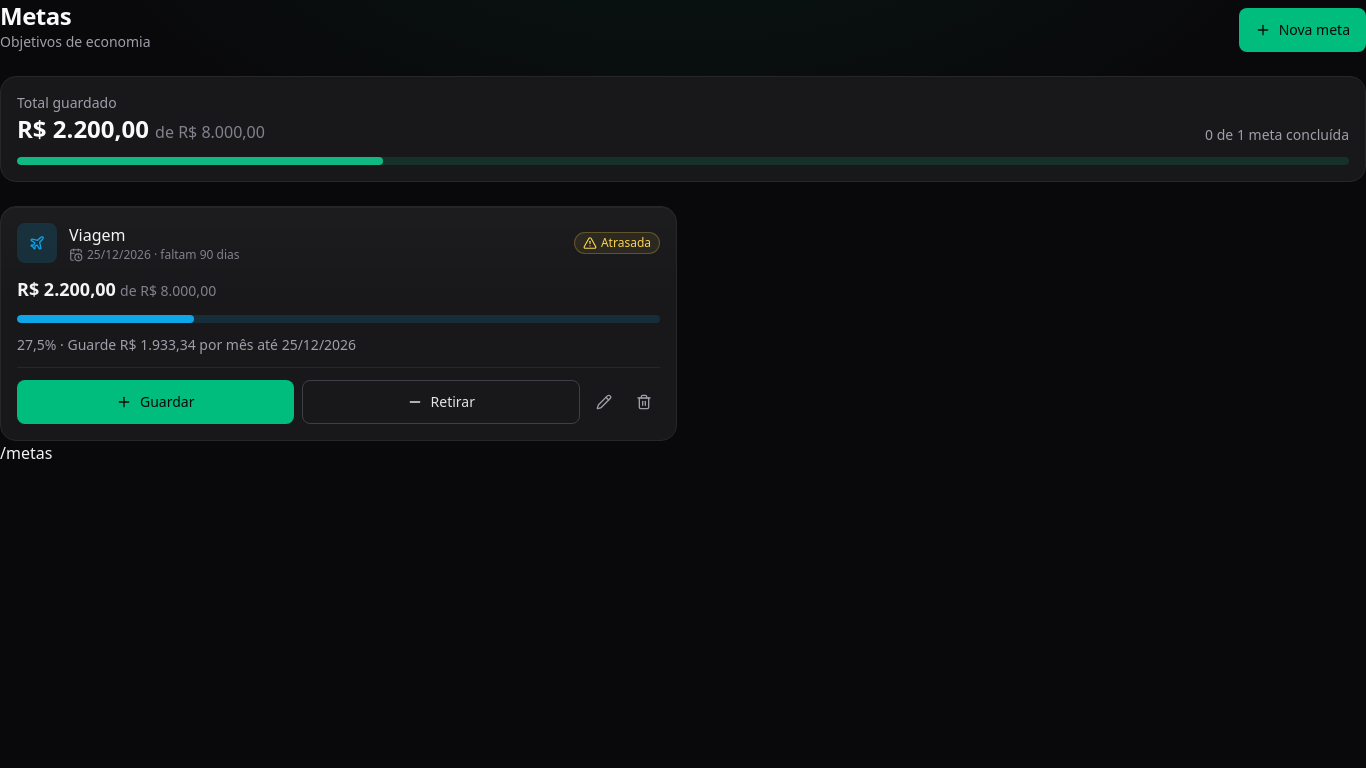
Test: GoalsPage › deposits and celebrates when the goal is reached
Click the button "Guardar" at (155, 402), box [17,380,294,424]
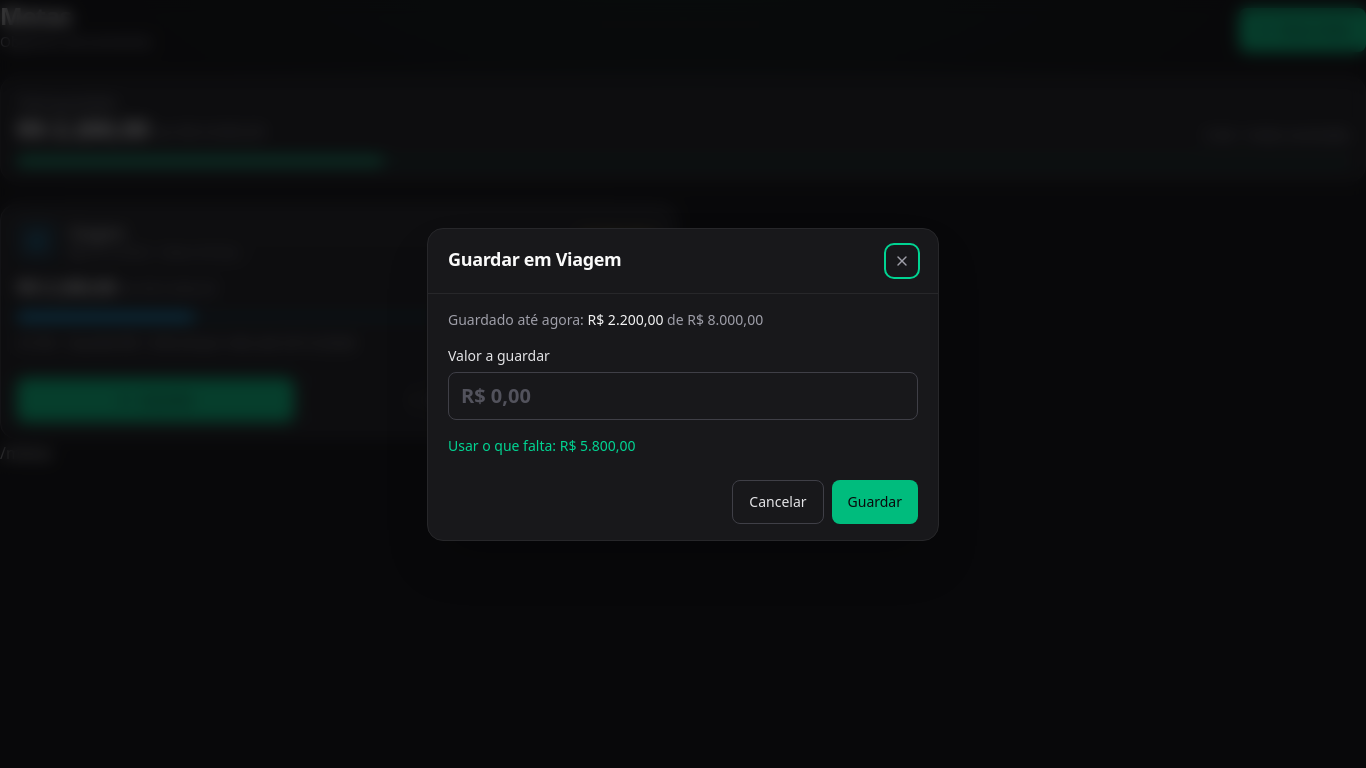
Click the button "Usar o que falta: R$ 5.800,00" at (542, 446), box [448,436,636,456]
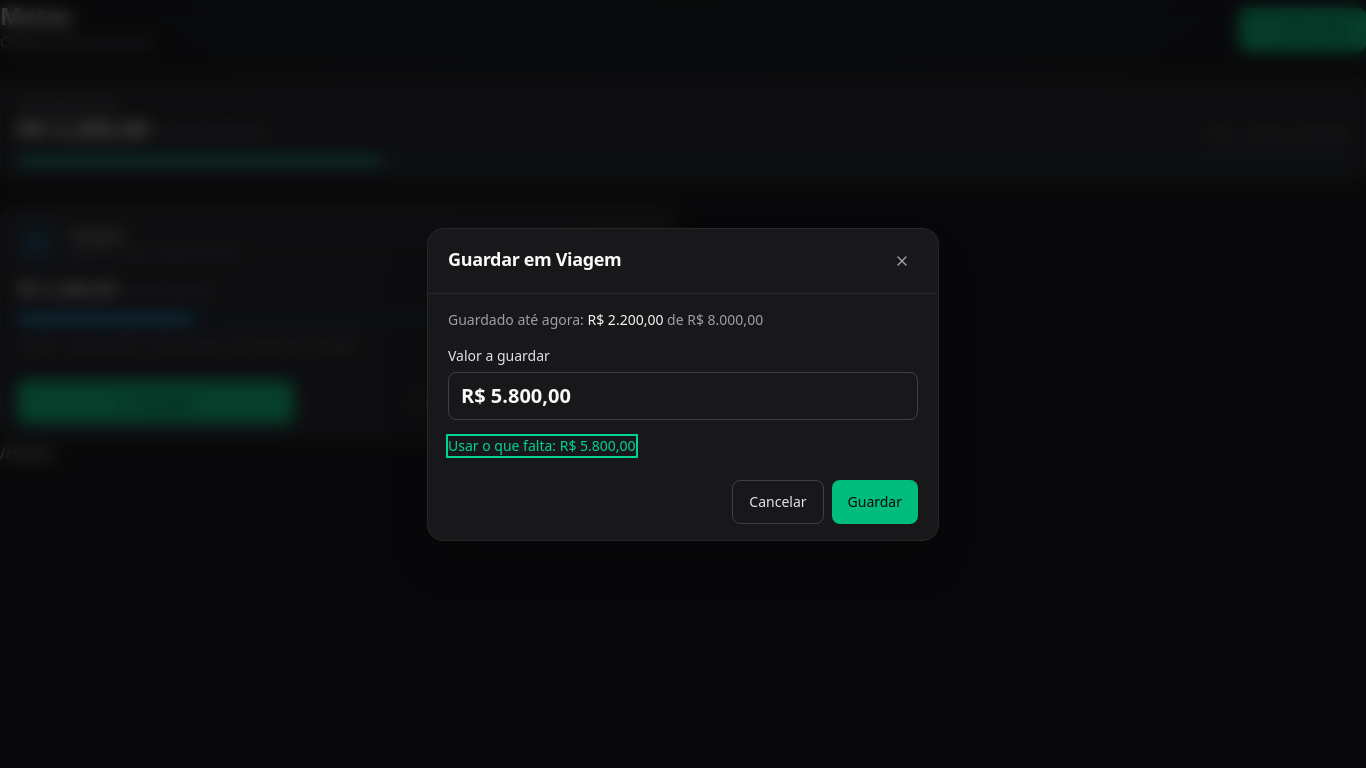
Click the button "Guardar" at (875, 502), box [832,480,918,524]
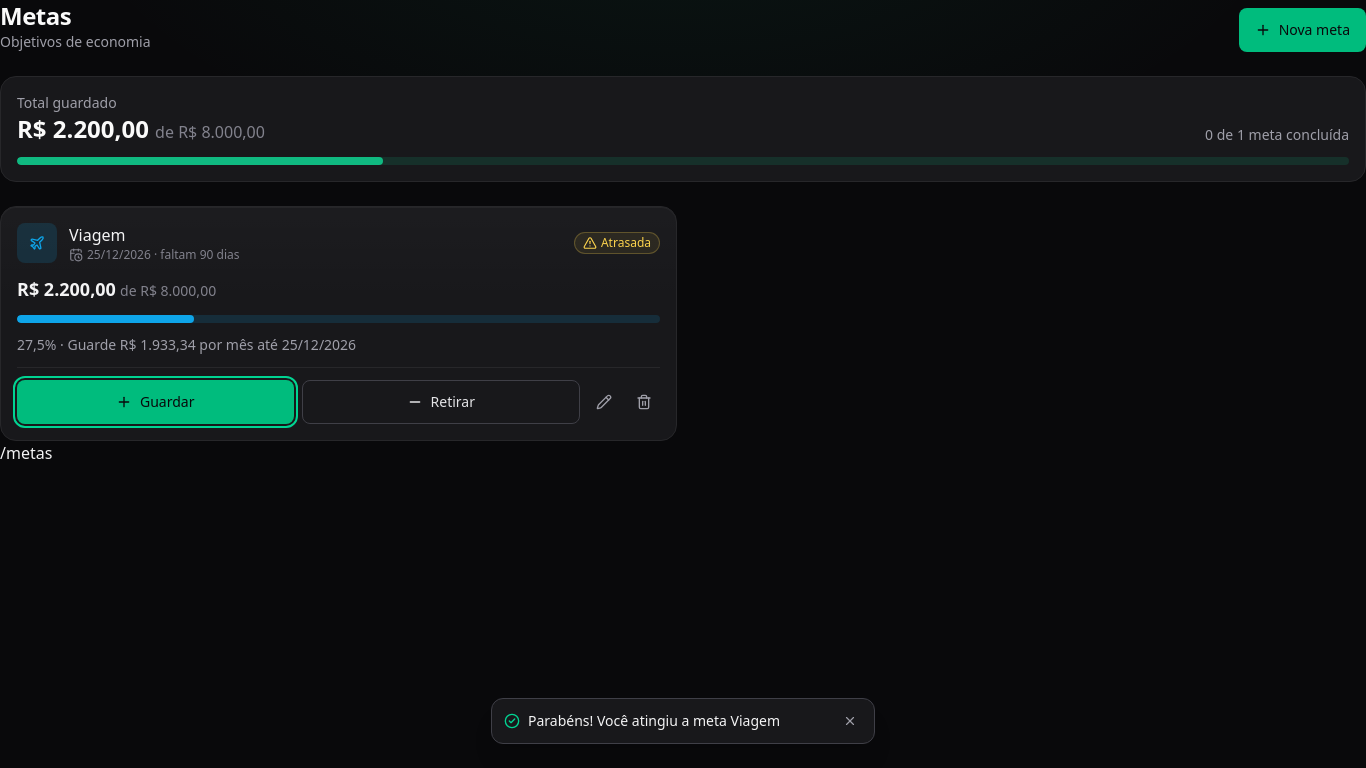
Now the text "Parabéns! Você atingiu a meta Viagem" is shown, box [528,711,780,730]
